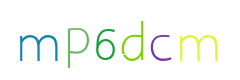6: (64, 0, 144, 80)
C: (95, 0, 175, 80)
D: (80, 0, 160, 80)
M: (37, 0, 117, 80), (152, 0, 232, 80)
P: (39, 0, 119, 80)
